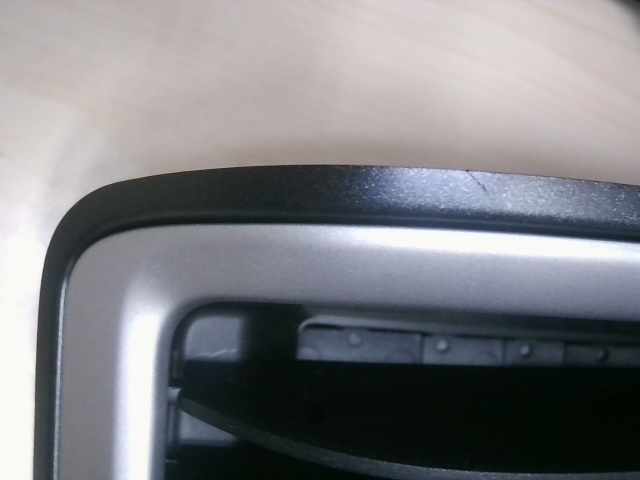NG: (454, 163, 495, 200)
